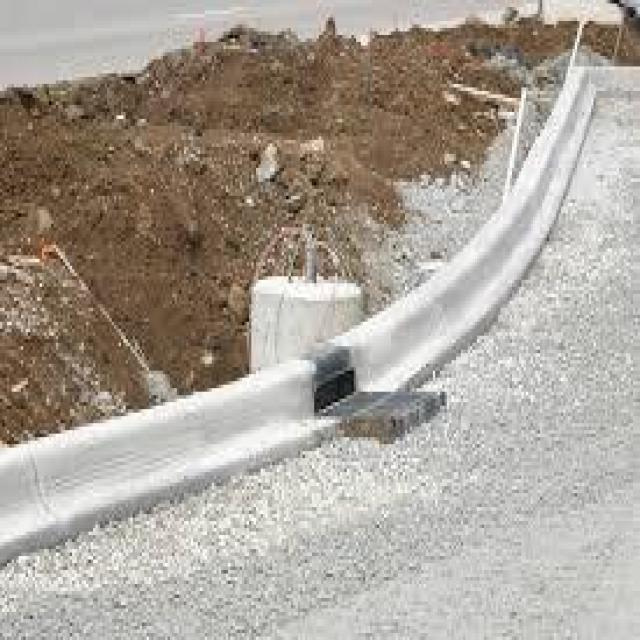curb: (24, 354, 342, 545), (426, 188, 555, 348), (331, 288, 465, 391)
